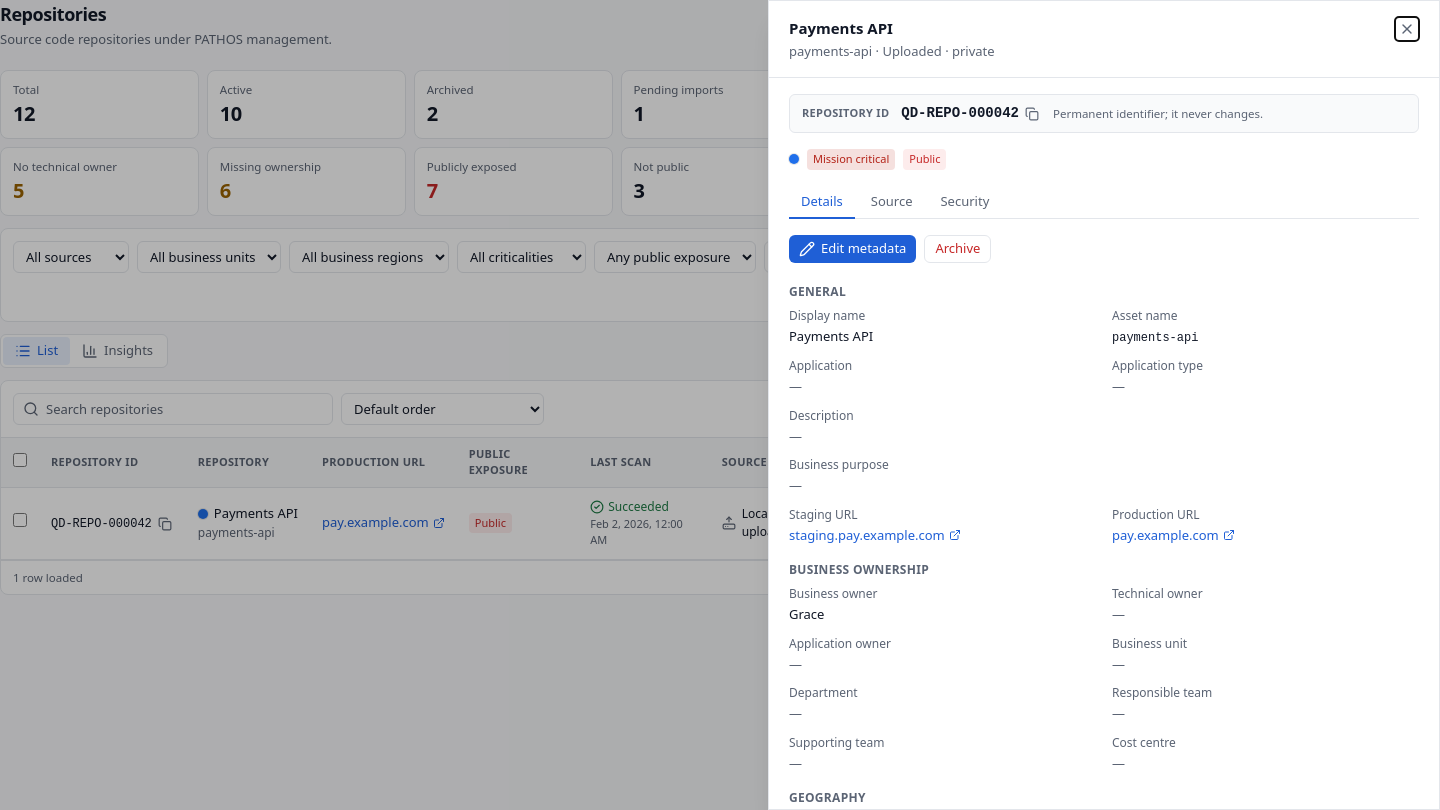
page smoke tests › repositories page shows KPIs, new columns and the drawer metadata
This screenshot has width=1440, height=810.
Expected: the text "Payments API" in the row of "succeeded" is shown, [214,504,298,522]
Expected: the link with aria-label "No business owner: 4" is shown, [1241,70,1439,139]
Click the tab "Source": (892, 202) [859,186,924,219]
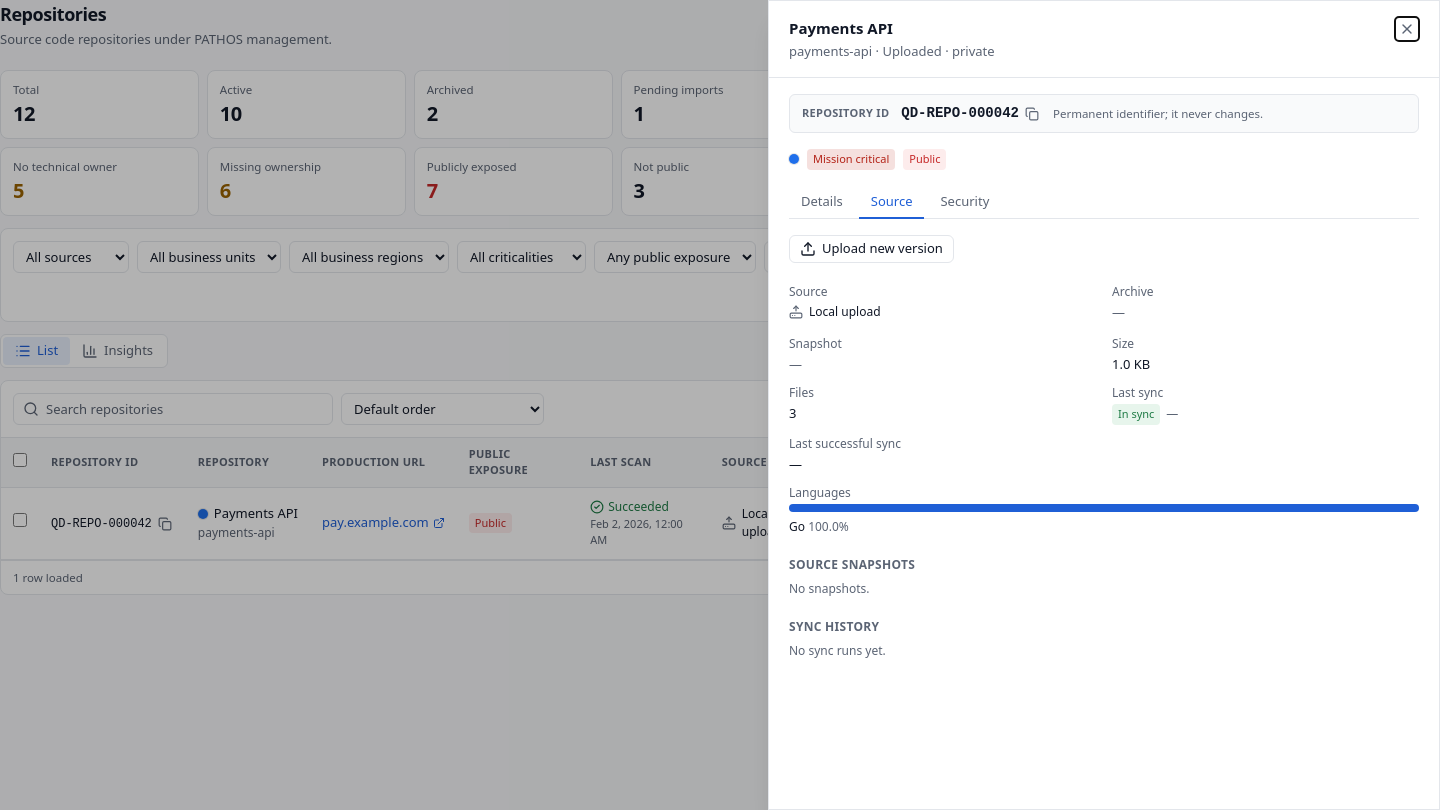
Result: the button "Upload new version" is shown at [789,235,954,263]
